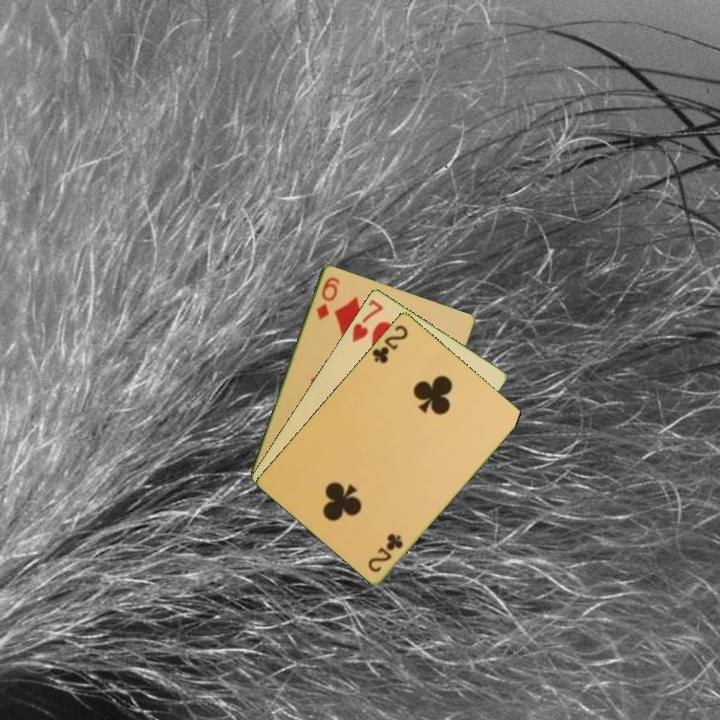2c: (368, 321, 411, 366), (364, 530, 406, 575)
6d: (313, 273, 342, 323)
7h: (348, 295, 386, 345)
